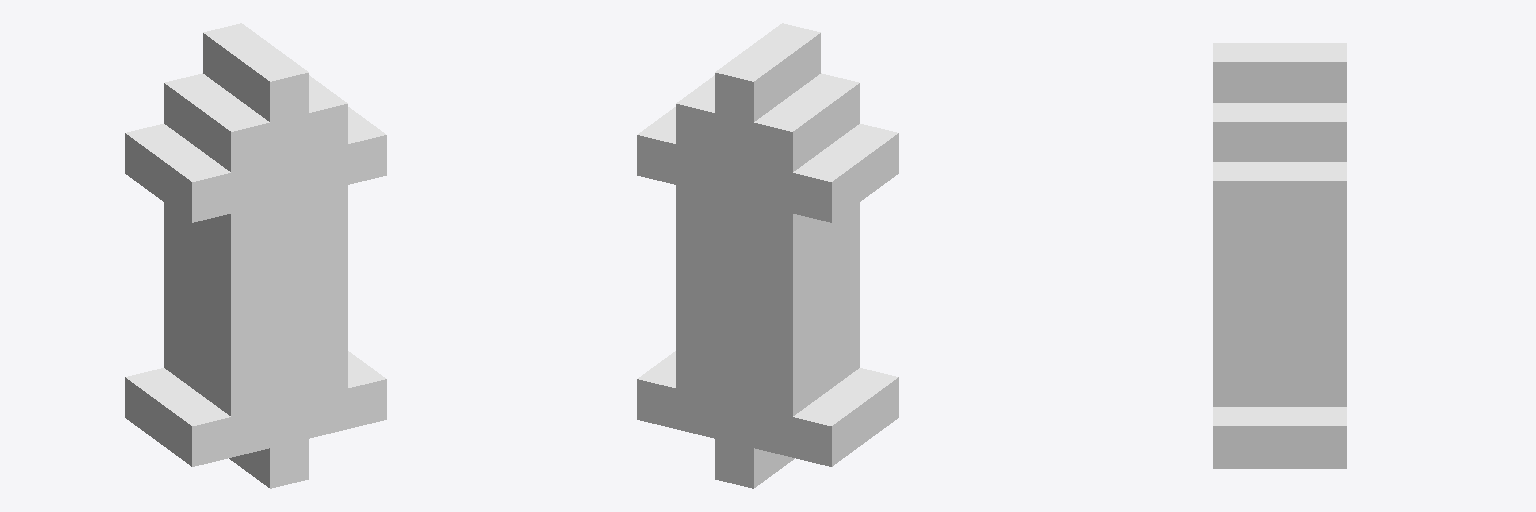
Rendered from rckt.obj.
3 renders of one model, left to right at view 1: azimuth 30°, elevation 25°; view 2: azimuth 150°, elevation 25°; view 3: azimuth 270°, elevation 25°, orthographic.
Parts seen in each view (by area): view 1: object 1; view 2: object 1; view 3: object 1.
Boxes of the visible parts, x1,y1,x2,y2 form: object 1: [125, 23, 386, 488]; object 1: [637, 23, 898, 488]; object 1: [1213, 43, 1346, 468].
Size of the model in its own units: 0.5 by 1 by 0.3.